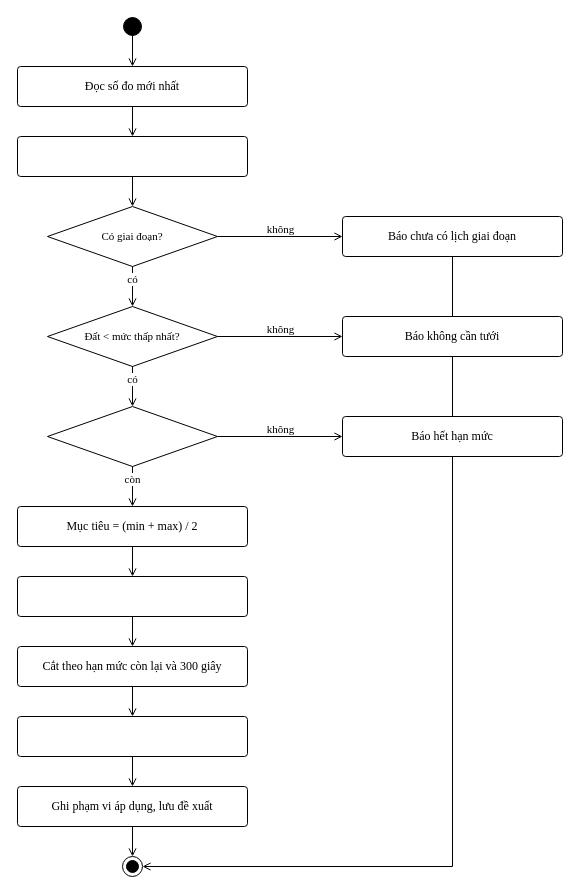
Image size: 580x894. Some labels were removed from this diagram. Each missing label, with the box of its shape:
Còn hạn mức?: (46, 406, 218, 466)
Lít tối đa = tối đa mỗi lần × hệ số thời tiết: (16, 576, 248, 616)
Lấy mùa vụ ACTIVE và giai đoạn hôm nay: (16, 136, 248, 176)
Đổi lít ra giây (60 giây = 2 lít): (16, 716, 248, 756)
